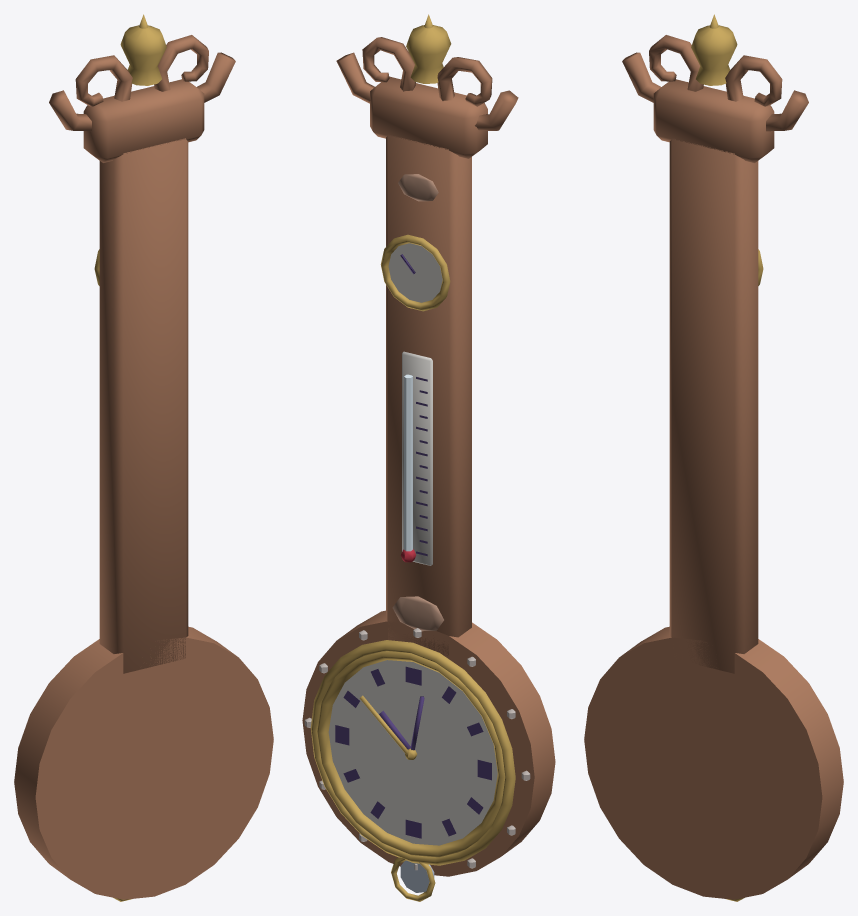
The model's file is barometer_wall.glb.
The picture shows the model from 3 angles, left to right: view 1: azimuth 30°, elevation 25°; view 2: azimuth 150°, elevation 25°; view 3: azimuth 330°, elevation 25°; orthographic projection. The views are drawn at different scales.
Visible parts, largest first — view 1: barometer_wall; view 2: barometer_wall; view 3: barometer_wall.
Boxes of the visible parts, x1,y1,x2,y2 form: barometer_wall: (14,14,273,901); barometer_wall: (302,14,555,901); barometer_wall: (584,14,843,901).
Size of what is drawn, in the model's own units: 0.25 by 0.9 by 0.06.
